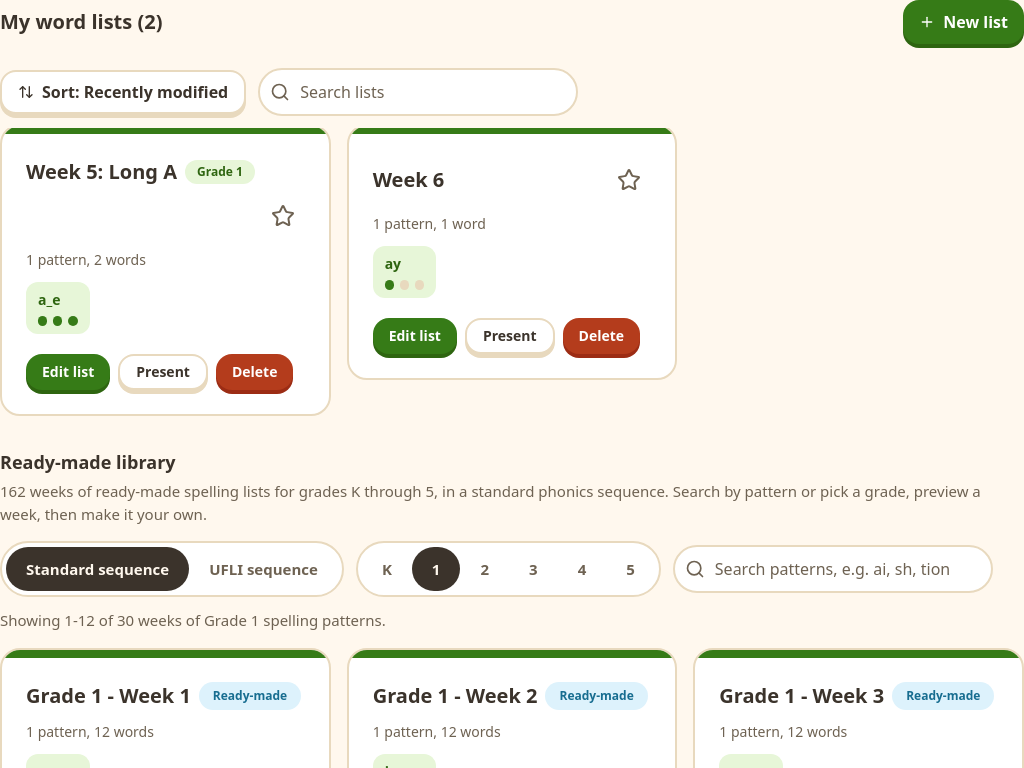
Test: PatternListsManager › confirms and deletes a list
The image size is (1024, 768).
expect the heading "My word lists (2)" is shown: met, box [0, 8, 162, 36]
Click the button "Delete" below "Week 5: Long A".
click(255, 372)  # box [216, 354, 293, 390]
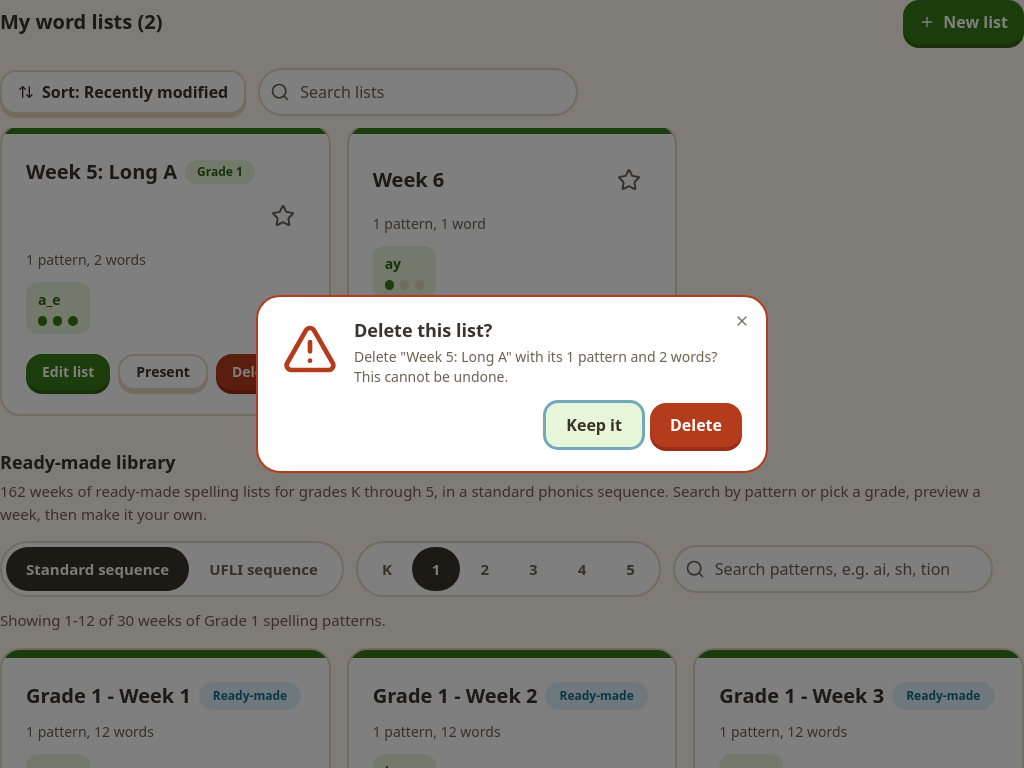
expect the heading "Delete this list?" is shown: met, box [354, 318, 492, 342]
expect the text "Delete \"Week 5: Long A\" with its 1 pattern and 2 words? This cannot be undone." is shown: met, box [354, 347, 742, 387]
Click the button "Delete".
click(696, 425)  # box [650, 403, 742, 447]
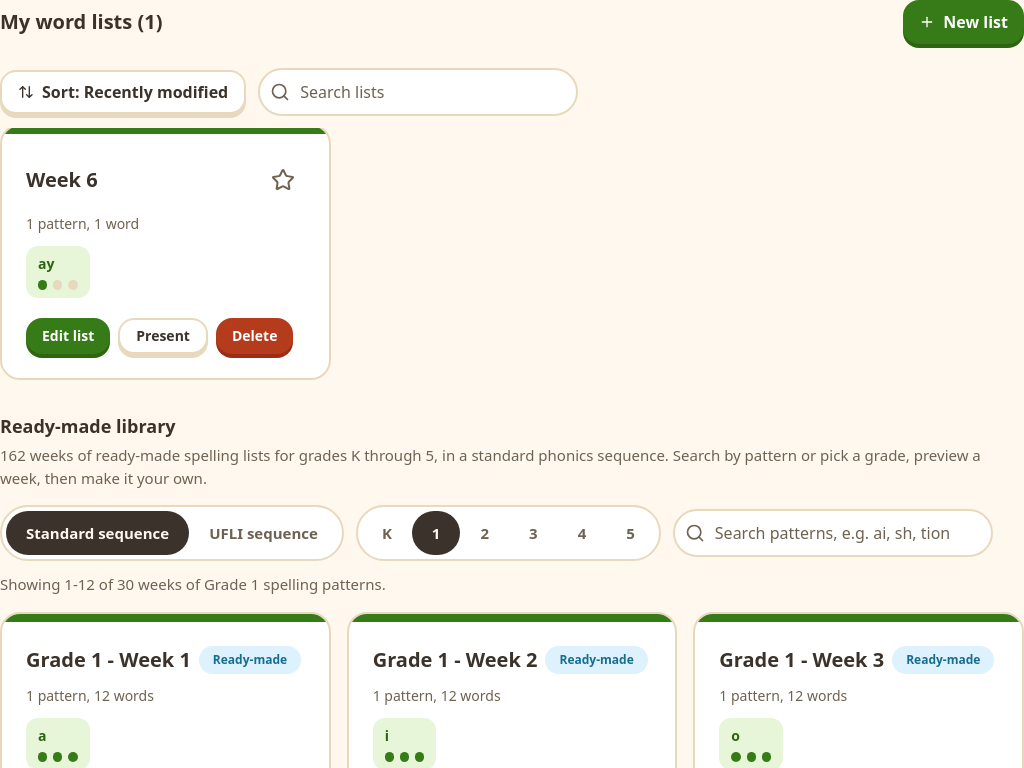
expect the heading "My word lists (1)" is shown: met, box [0, 8, 162, 36]
expect the text "Week 5: Long A" is gone: met
